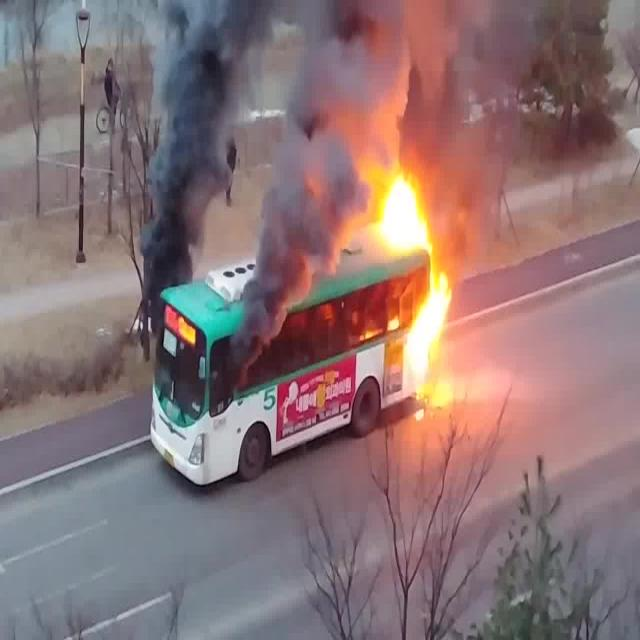fire: (368, 182, 454, 399)
smoke: (234, 0, 404, 370), (139, 0, 231, 367)
